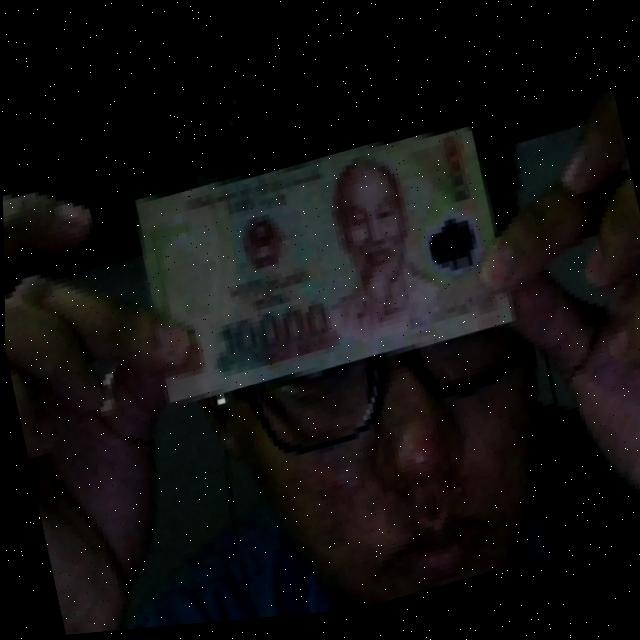10 000 VND: (117, 99, 526, 430)
